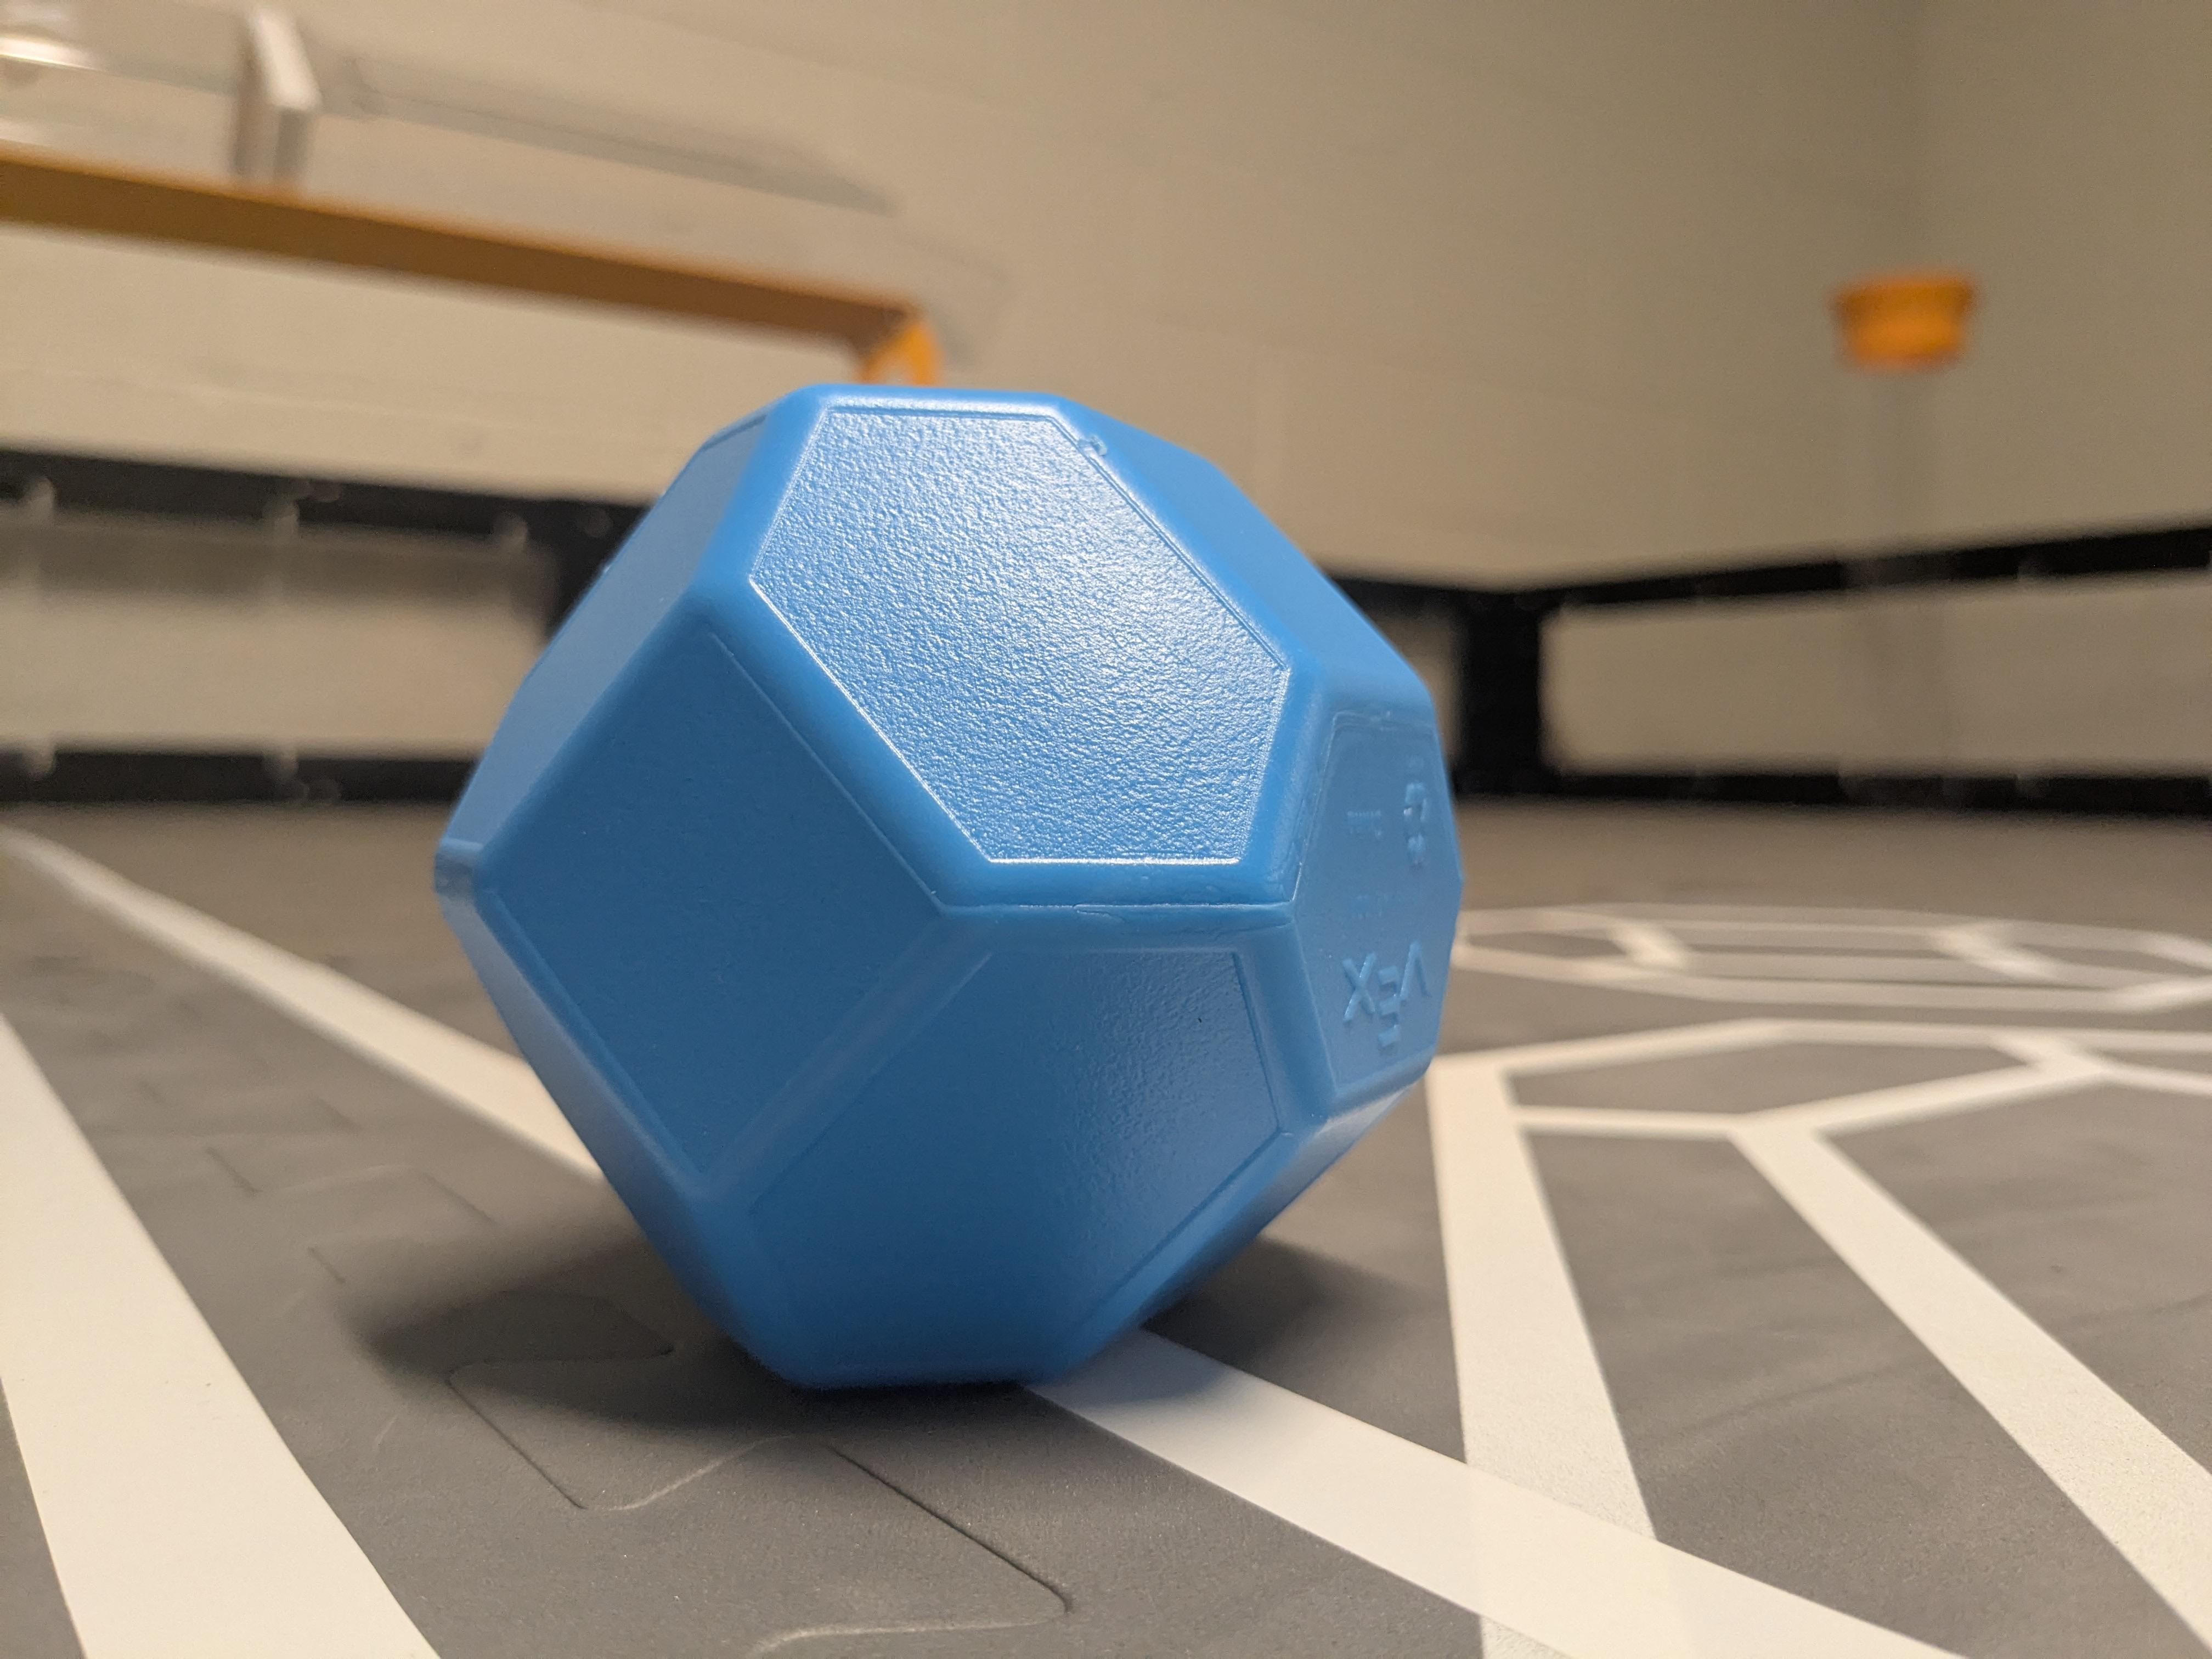Vex-Pieces-BLUE: (435, 383, 1465, 1389)
